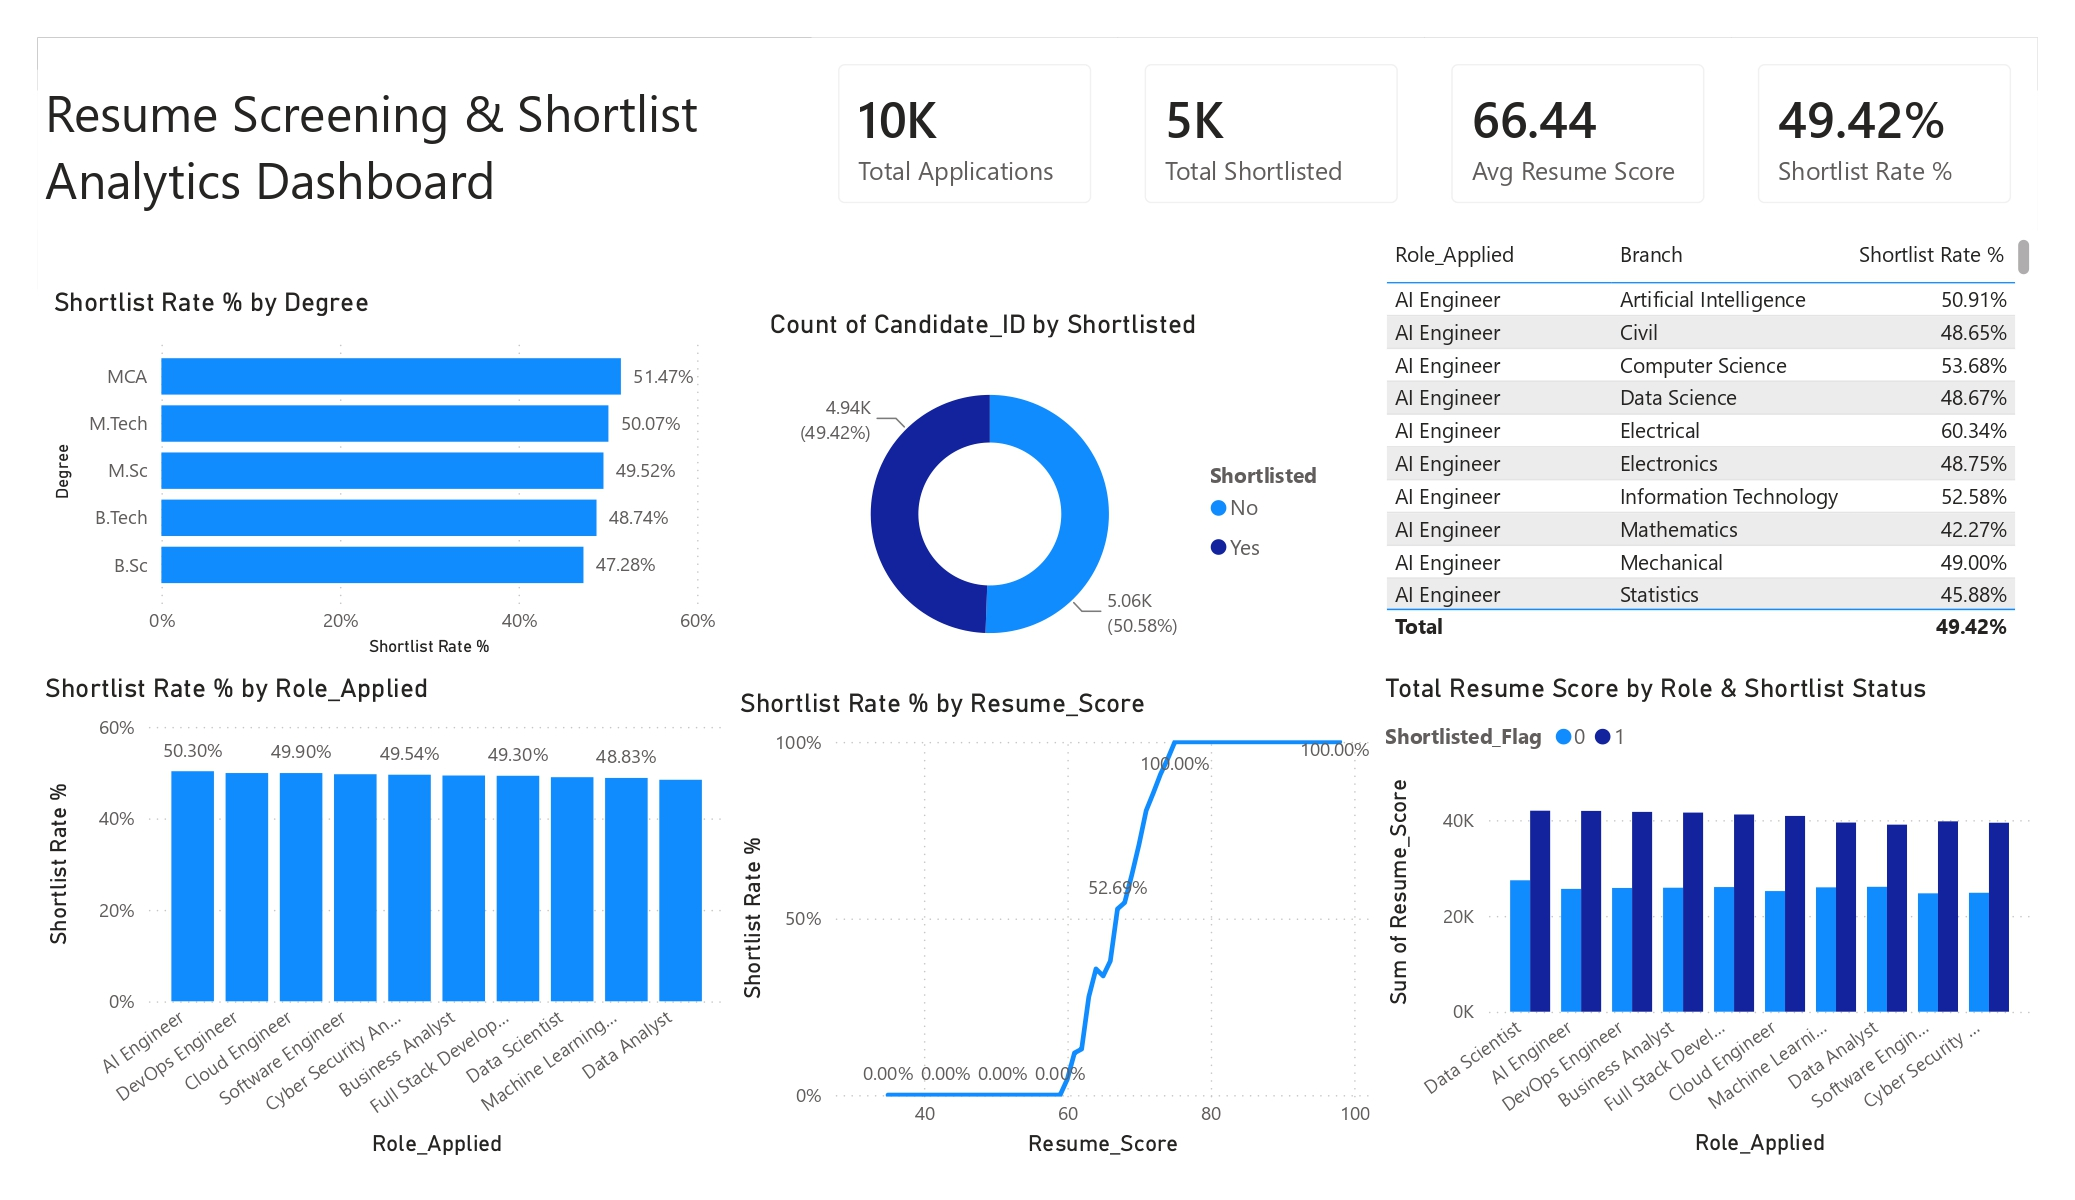

The page's visual inventory and layout, read from the dashboard file:
{"tool":"powerbi","page":{"name":"Page 1","canvas":[1280,720],"ordinal":0},"visuals":[{"type":"cardVisual","fields":{"Data":["Applications.Total Applications"]},"box":[495.4,0,196.2,123.5],"z":0},{"type":"cardVisual","fields":{"Data":["Applications.Total Shortlisted"]},"box":[691.6,0,196.2,123.5],"z":1},{"type":"cardVisual","fields":{"Data":["Applications.Shortlist Rate %"]},"box":[1084.1,0,196.2,123.5],"z":2},{"type":"cardVisual","fields":{"Data":["Applications.Avg Resume Score"]},"box":[887.8,0,196.2,123.5],"z":3},{"type":"clusteredColumnChart","fields":{"Category":["Applications.Role_Applied"],"Y":["Applications.Shortlist Rate %"]},"box":[0,406.2,444.6,314.2],"z":4},{"type":"barChart","fields":{"Category":["Applications.Degree"],"Y":["Applications.Shortlist Rate %"]},"box":[5.5,159.2,433.6,241.5],"z":5},{"type":"donutChart","fields":{"Category":["Applications.Shortlisted"],"Y":["CountNonNull(Applications.Candidate_ID)"]},"box":[463.8,172.9,377.4,242.9],"z":6},{"type":"lineChart","fields":{"Y":["Applications.Shortlist Rate %"],"Category":["Applications.Resume_Score"]},"box":[444.6,415.8,413,304.6],"z":7},{"type":"clusteredColumnChart","title":"Total Resume Score by Role & Shortlist Status","fields":{"Category":["Applications.Role_Applied"],"Series":["Applications.Shortlisted_Flag"],"Y":["Sum(Applications.Resume_Score)"]},"box":[857.6,406.2,422.6,314.2],"z":8},{"type":"tableEx","fields":{"Values":["Applications.Role_Applied","Applications.Branch","Applications.Shortlist Rate %"]},"box":[857.6,123.5,422.6,267.6],"z":9},{"type":"textbox","box":[0,20.6,495.4,102.9],"z":10}]}

Visuals, with their boxes on the page's 1280x720 design canvas (x1, y1, x2, y2). These are canvas units, not pixel positions in the 2075x1200 screenshot, which may show the page scaled, cropped or inside an application window:
cardVisual - Applications.Total Applications: rect(495, 0, 692, 124)
cardVisual - Applications.Total Shortlisted: rect(692, 0, 888, 124)
cardVisual - Applications.Shortlist Rate %: rect(1084, 0, 1280, 124)
cardVisual - Applications.Avg Resume Score: rect(888, 0, 1084, 124)
clusteredColumnChart - Applications.Role_Applied x Applications.Shortlist Rate %: rect(0, 406, 445, 720)
barChart - Applications.Degree x Applications.Shortlist Rate %: rect(6, 159, 439, 401)
donutChart - Applications.Shortlisted x CountNonNull(Applications.Candidate_ID): rect(464, 173, 841, 416)
lineChart - Applications.Shortlist Rate % x Applications.Resume_Score: rect(445, 416, 858, 720)
"Total Resume Score by Role & Shortlist Status" clusteredColumnChart: rect(858, 406, 1280, 720)
tableEx - Applications.Role_Applied x Applications.Branch: rect(858, 124, 1280, 391)
textbox: rect(0, 21, 495, 124)
